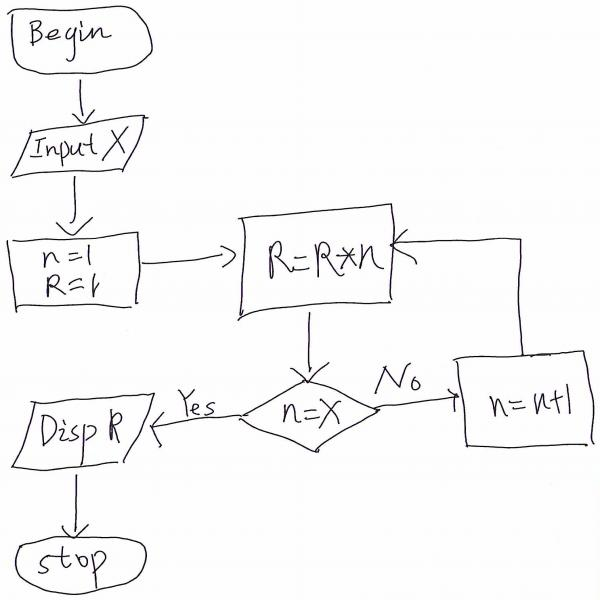arrow: (398, 222, 536, 342), (152, 413, 251, 447), (143, 245, 236, 280), (294, 311, 328, 381), (372, 396, 464, 417), (58, 181, 93, 236), (67, 476, 96, 536), (67, 80, 99, 122)
data: (13, 125, 150, 176)
process: (235, 217, 395, 308), (2, 234, 138, 307)
terminator: (1, 4, 155, 73)
text: (262, 233, 384, 279), (38, 410, 134, 456), (33, 246, 107, 300), (36, 125, 134, 164), (488, 384, 584, 418), (26, 18, 114, 54), (33, 548, 126, 579), (361, 362, 424, 398), (283, 394, 339, 428), (167, 382, 220, 412)
